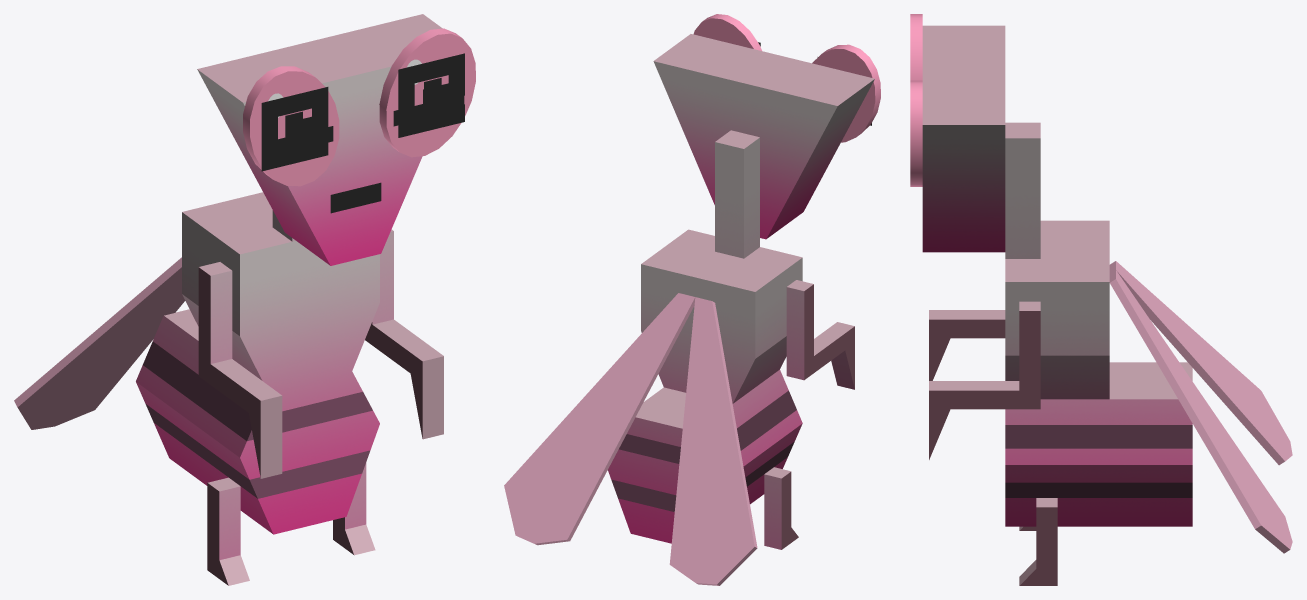
The picture shows the model from 3 angles, left to right: view 1: azimuth 30°, elevation 25°; view 2: azimuth 150°, elevation 25°; view 3: azimuth 270°, elevation 25°; orthographic projection. The views are drawn at different scales.
Parts seen in each view (by area): view 1: Ch_207_Head, Ch_207, Ch_207_Chest, Ch_207_Wing_R, Ch_207_Arm_L, Ch_207_Arm_R, Ch_207_Leg_L, Ch_207_Eye_03_L, Ch_207_Eye_03_R, Ch_207_Eye_02, Ch_207_Leg_R, Ch_207_Eye_01; view 2: Ch_207_Head, Ch_207_Wing_L, Ch_207_Chest, Ch_207_Wing_R, Ch_207, Ch_207_Arm_L, Ch_207_Leg_L; view 3: Ch_207_Head, Ch_207, Ch_207_Chest, Ch_207_Wing_L, Ch_207_Wing_R, Ch_207_Arm_R, Ch_207_Arm_L, Ch_207_Leg_R.
Boxes of the visible parts, box(x1,y1,x2,y2) form: Ch_207_Head: box(197, 14, 475, 265); Ch_207: box(136, 309, 379, 534); Ch_207_Chest: box(182, 192, 379, 389); Ch_207_Wing_R: box(14, 257, 185, 429); Ch_207_Arm_L: box(198, 262, 282, 478); Ch_207_Arm_R: box(365, 229, 443, 439); Ch_207_Leg_L: box(207, 477, 249, 585); Ch_207_Eye_03_L: box(261, 87, 328, 171); Ch_207_Eye_03_R: box(398, 53, 464, 137); Ch_207_Eye_02: box(262, 94, 464, 158); Ch_207_Leg_R: box(333, 462, 375, 555); Ch_207_Eye_01: box(285, 78, 441, 146); Ch_207_Head: box(653, 14, 880, 258); Ch_207_Wing_L: box(504, 293, 695, 545); Ch_207_Chest: box(641, 229, 802, 403); Ch_207_Wing_R: box(669, 297, 757, 585); Ch_207: box(608, 369, 802, 543); Ch_207_Arm_L: box(786, 280, 854, 389); Ch_207_Leg_L: box(764, 467, 798, 549); Ch_207_Head: box(910, 14, 1040, 258); Ch_207: box(1005, 362, 1192, 526); Ch_207_Chest: box(1005, 220, 1109, 399); Ch_207_Wing_L: box(1109, 270, 1292, 553); Ch_207_Wing_R: box(1109, 261, 1292, 465); Ch_207_Arm_R: box(929, 301, 1040, 459); Ch_207_Arm_L: box(929, 310, 1005, 380); Ch_207_Leg_R: box(1019, 498, 1057, 585).
Size of the model in its own units: 6.02 by 10.47 by 7.24.
